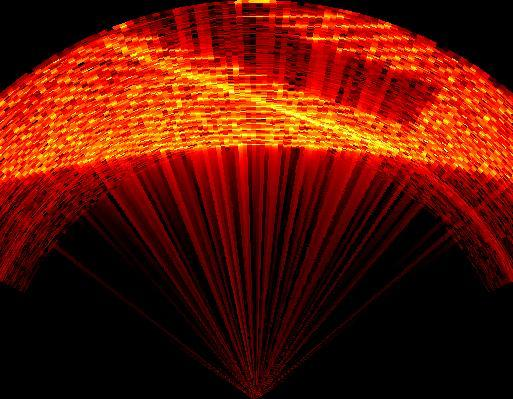pipe: (105, 1, 444, 154)
